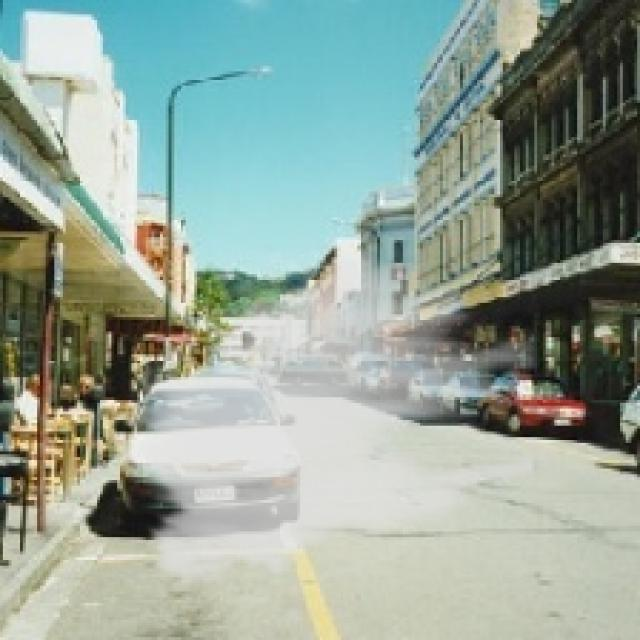smoke: (117, 243, 537, 600)
